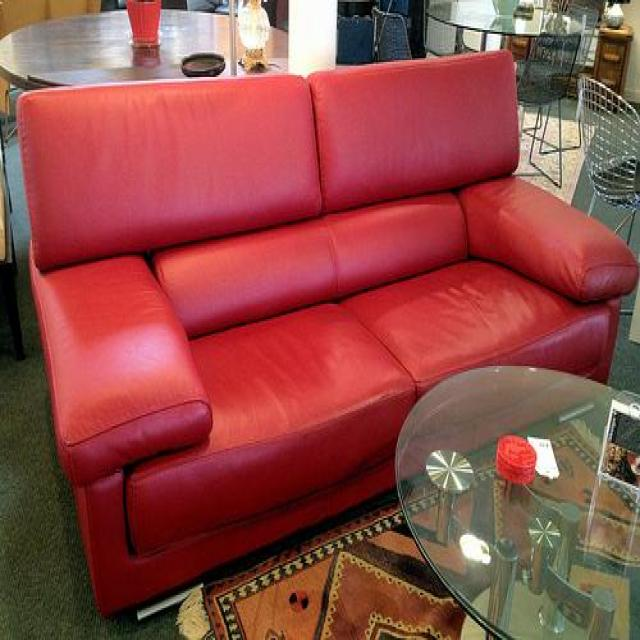sofa: (14, 47, 640, 618)
